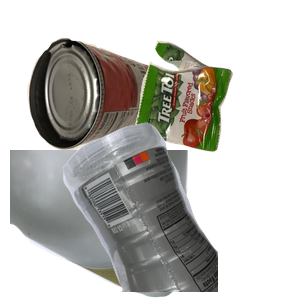glass: (10, 150, 190, 300)
metal: (25, 35, 189, 180)
plastic: (60, 120, 300, 300)
trash: (131, 38, 300, 182)
